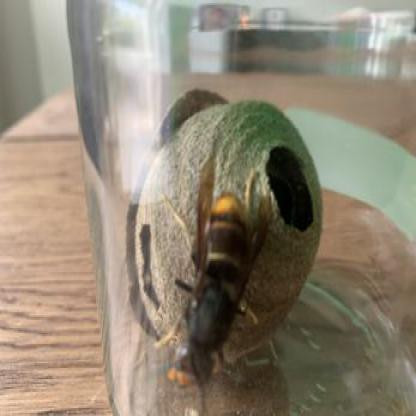Asian Hornet: (165, 140, 252, 382)
